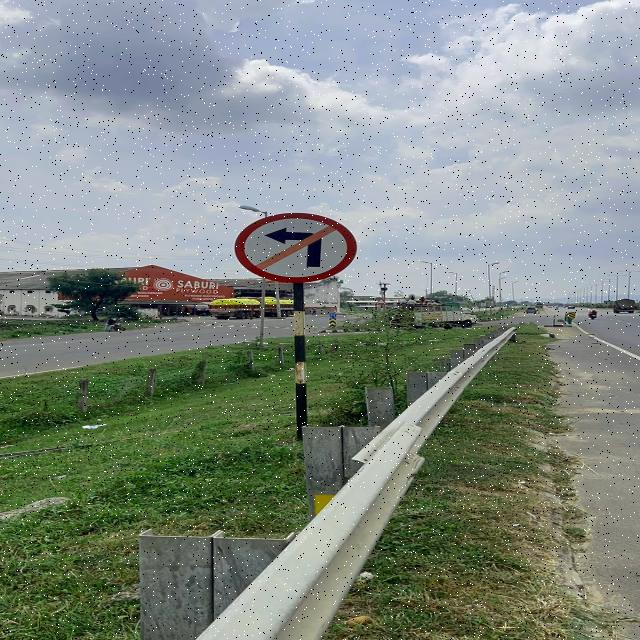No_left_Turn: (226, 199, 372, 292)
